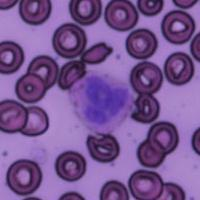N: (67, 68, 134, 134)
